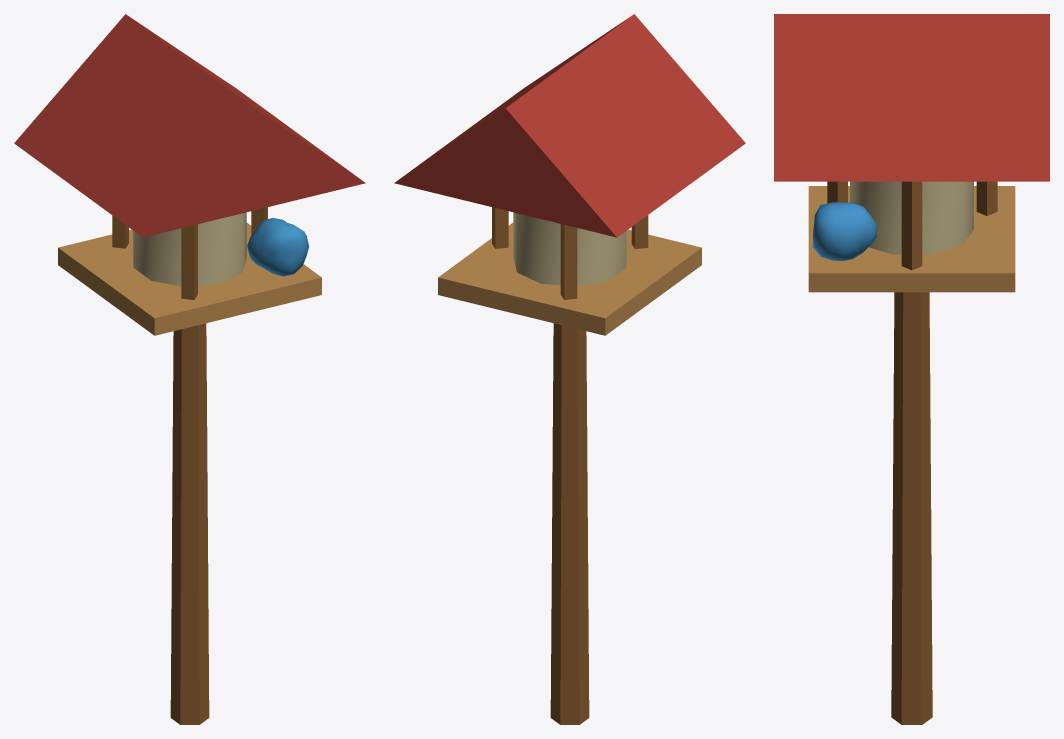
The model's file is bird_feeder.glb.
The picture shows the model from 3 angles, left to right: view 1: azimuth 30°, elevation 25°; view 2: azimuth 150°, elevation 25°; view 3: azimuth 270°, elevation 25°; orthographic projection. The views are drawn at different scales.
Visible parts, largest first — view 1: decor-bird_feeder; view 2: decor-bird_feeder; view 3: decor-bird_feeder.
Boxes of the visible parts, x1,y1,x2,y2 form: decor-bird_feeder: (14, 14, 365, 724); decor-bird_feeder: (394, 14, 745, 724); decor-bird_feeder: (774, 14, 1049, 724).
Size of the model in its own units: 0.7999 by 2.25 by 0.7999.
